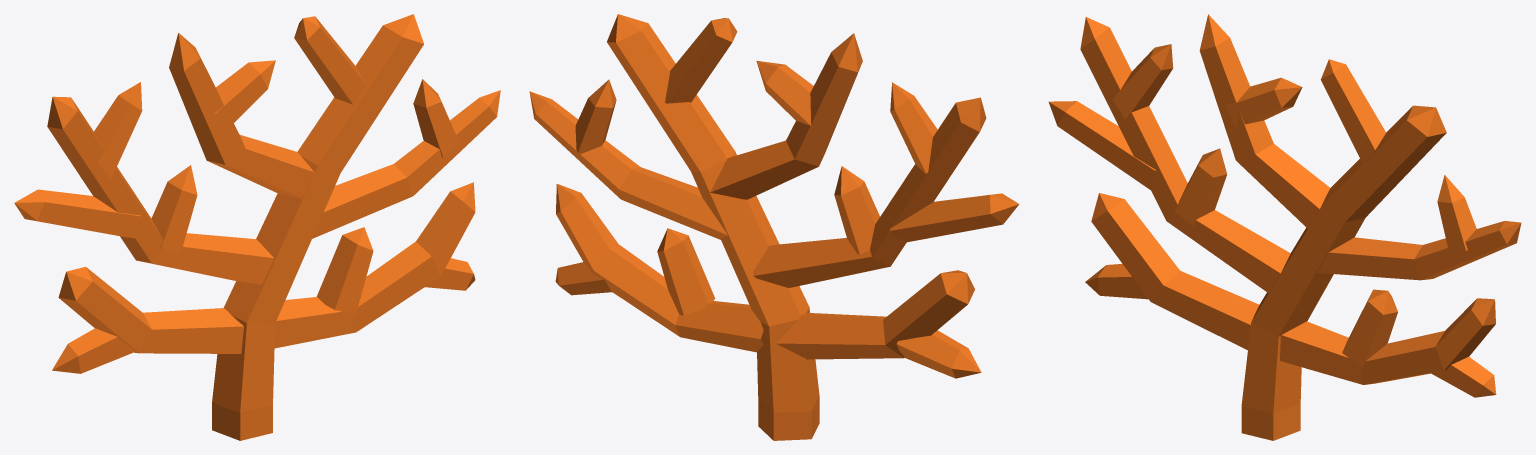
File: nature_coral-small.fbx
3 views of the same model, side by side, from view 1: azimuth 30°, elevation 25°; view 2: azimuth 150°, elevation 25°; view 3: azimuth 330°, elevation 25° (orthographic). The views are drawn at different scales.
Visible parts, largest first — view 1: nature_coral_small; view 2: nature_coral_small; view 3: nature_coral_small.
Part boxes in pixels (left/top/right/bottom): nature_coral_small: left=14, top=14, right=500, bottom=440; nature_coral_small: left=529, top=14, right=1019, bottom=440; nature_coral_small: left=1048, top=14, right=1521, bottom=440.
Size of the model in its own units: 200 by 161 by 20.73.
